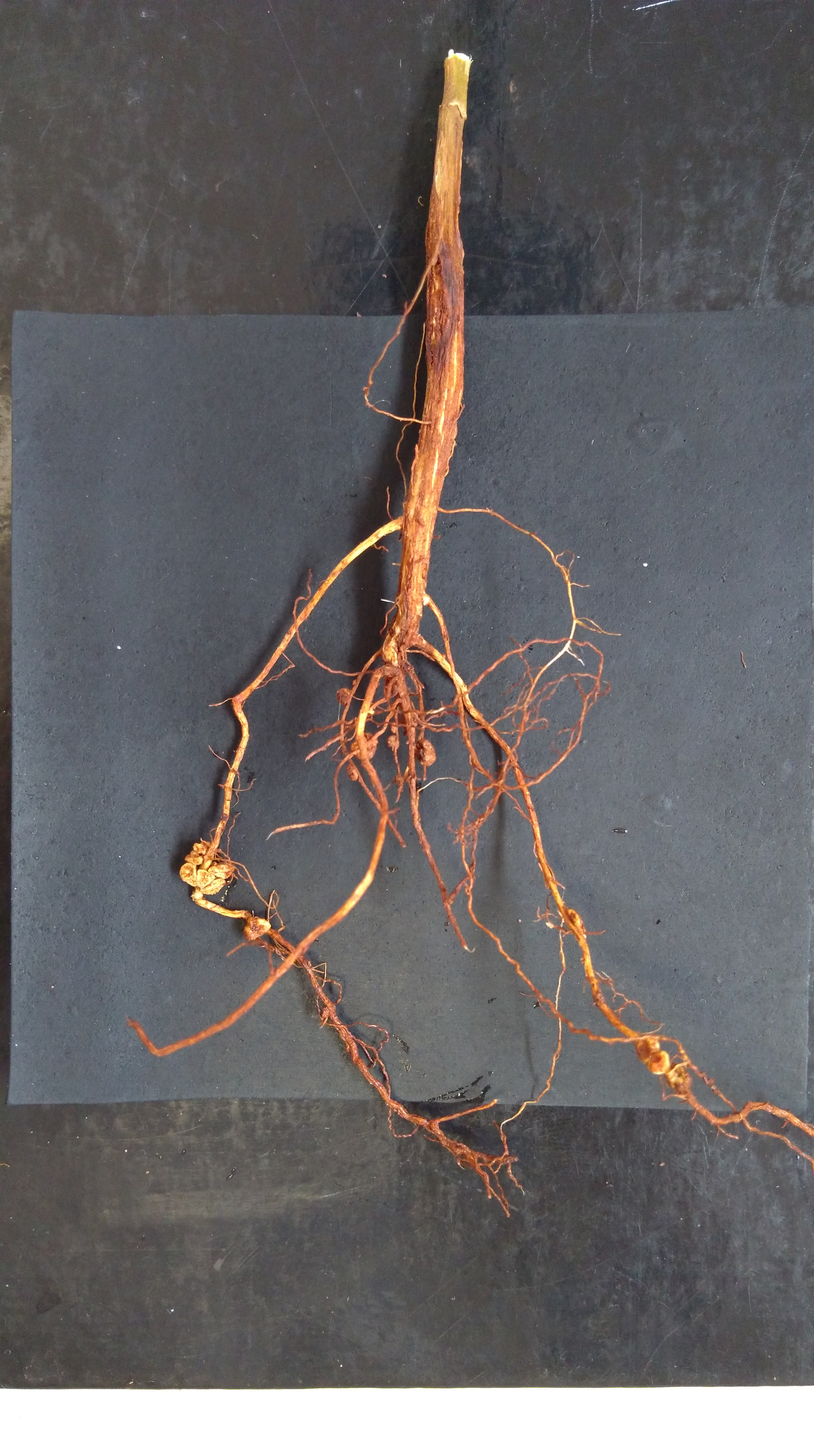nodule: (664, 1060, 693, 1094), (349, 731, 379, 761), (241, 915, 272, 943), (634, 1035, 661, 1065), (415, 736, 438, 768), (645, 1050, 671, 1075), (564, 907, 586, 934), (206, 862, 236, 880), (178, 861, 198, 887), (200, 877, 227, 896), (194, 868, 216, 889), (183, 849, 204, 866), (335, 686, 350, 707), (384, 733, 400, 751), (382, 647, 398, 662), (346, 763, 358, 781), (191, 842, 206, 855), (318, 1004, 331, 1019), (391, 719, 399, 733), (362, 386, 369, 394), (367, 379, 374, 386), (351, 679, 357, 686)
